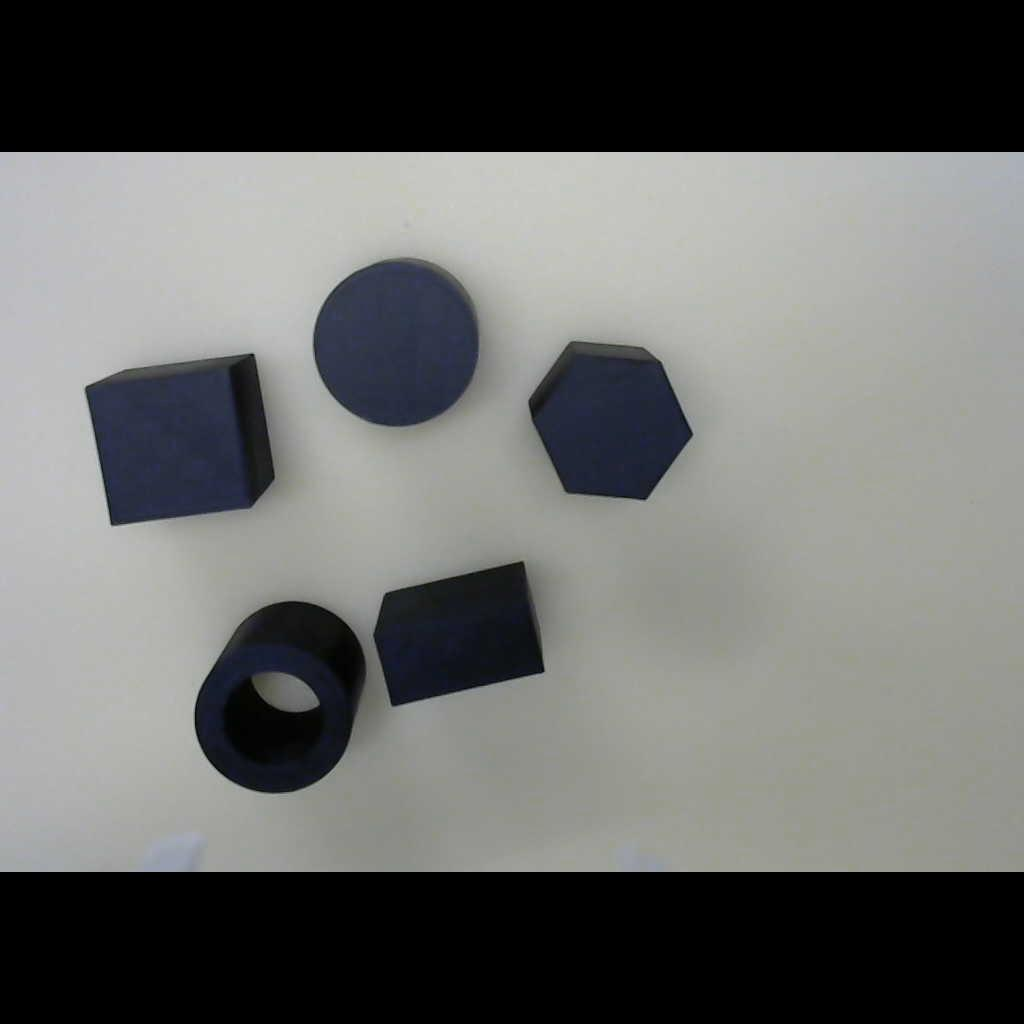circle: (295, 228, 501, 448)
hexagon: (507, 318, 720, 517)
rectangle: (353, 547, 558, 718)
ring: (176, 588, 384, 817)
square: (63, 333, 299, 546)
